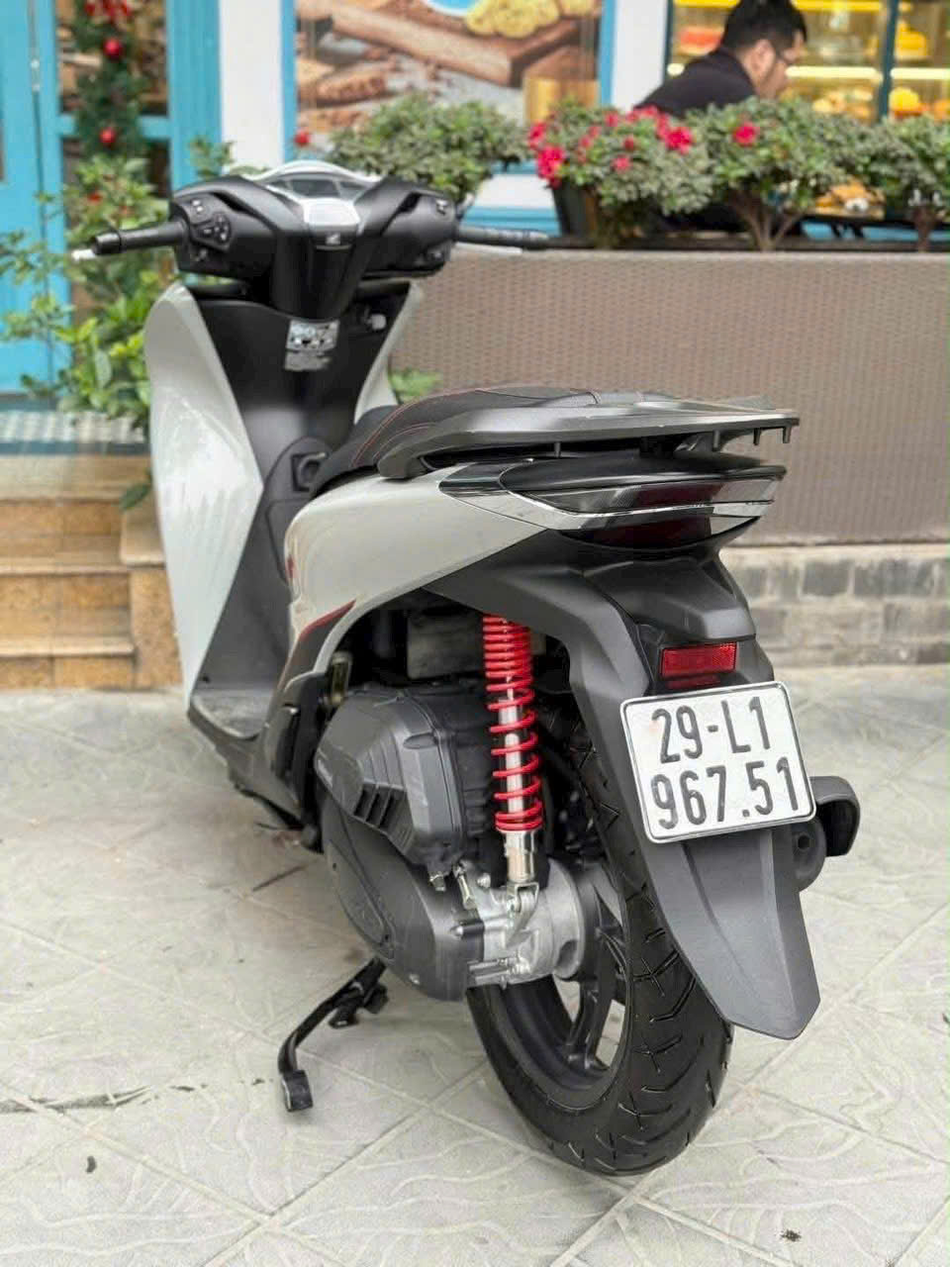Bien-so: (621, 671, 817, 853)
